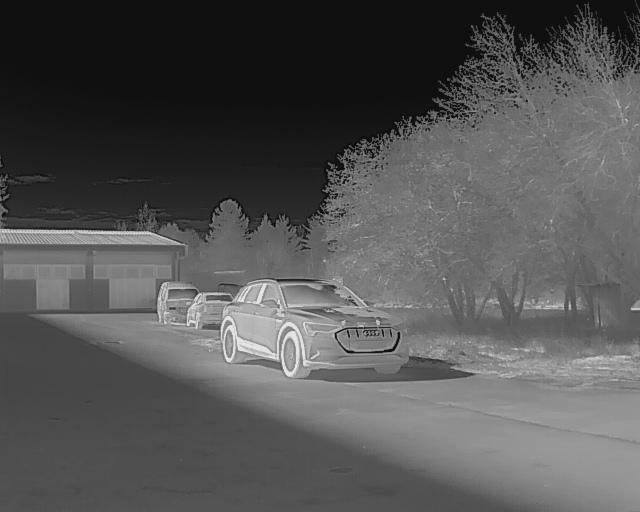drone: (335, 316, 372, 334)
